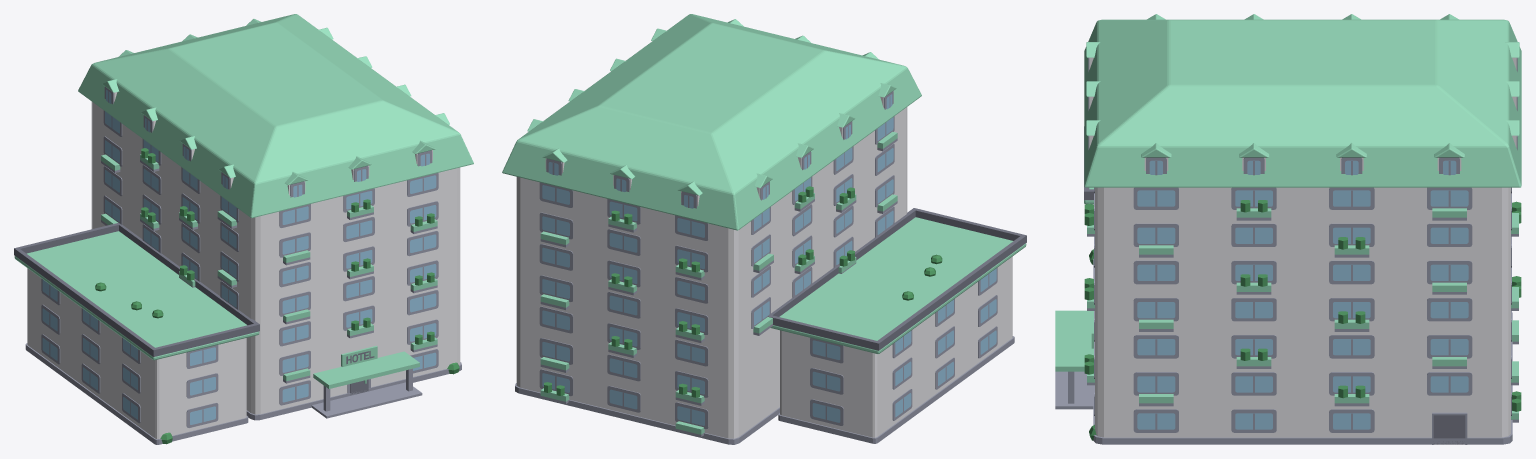
File: hotel-3x3-t3-tone-a.glb
3 renders of one model, left to right at view 1: azimuth 30°, elevation 25°; view 2: azimuth 150°, elevation 25°; view 3: azimuth 270°, elevation 25°, orthographic. The views are drawn at different scales.
Parts seen in each view (by area): view 1: hotel-3x3-t3-tone-a; view 2: hotel-3x3-t3-tone-a; view 3: hotel-3x3-t3-tone-a.
Part boxes in pixels (<box>): hotel-3x3-t3-tone-a: <box>14,14,473,444</box>; hotel-3x3-t3-tone-a: <box>502,14,1026,444</box>; hotel-3x3-t3-tone-a: <box>1055,14,1521,444</box>.
Size of the model in its own units: 2.96 by 2.29 by 2.96.
1 material, 1 textured.
